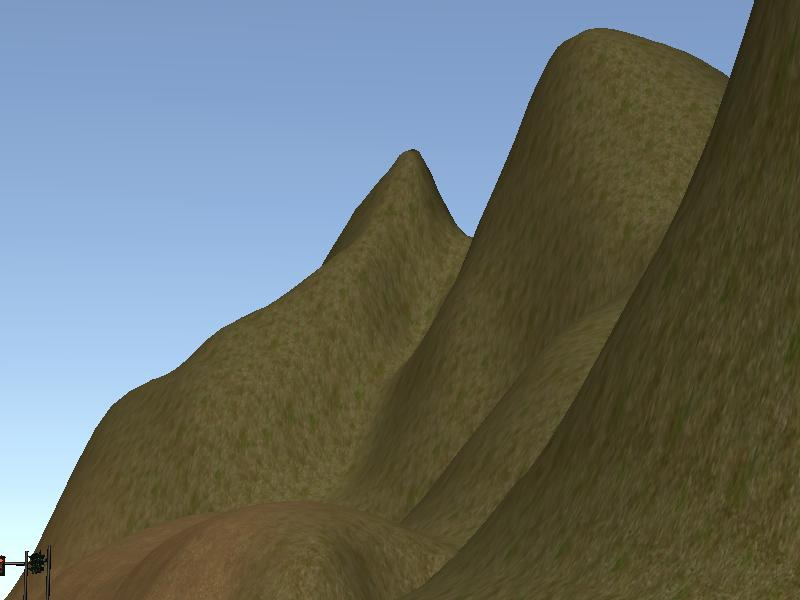Red: (1, 556, 5, 577)
